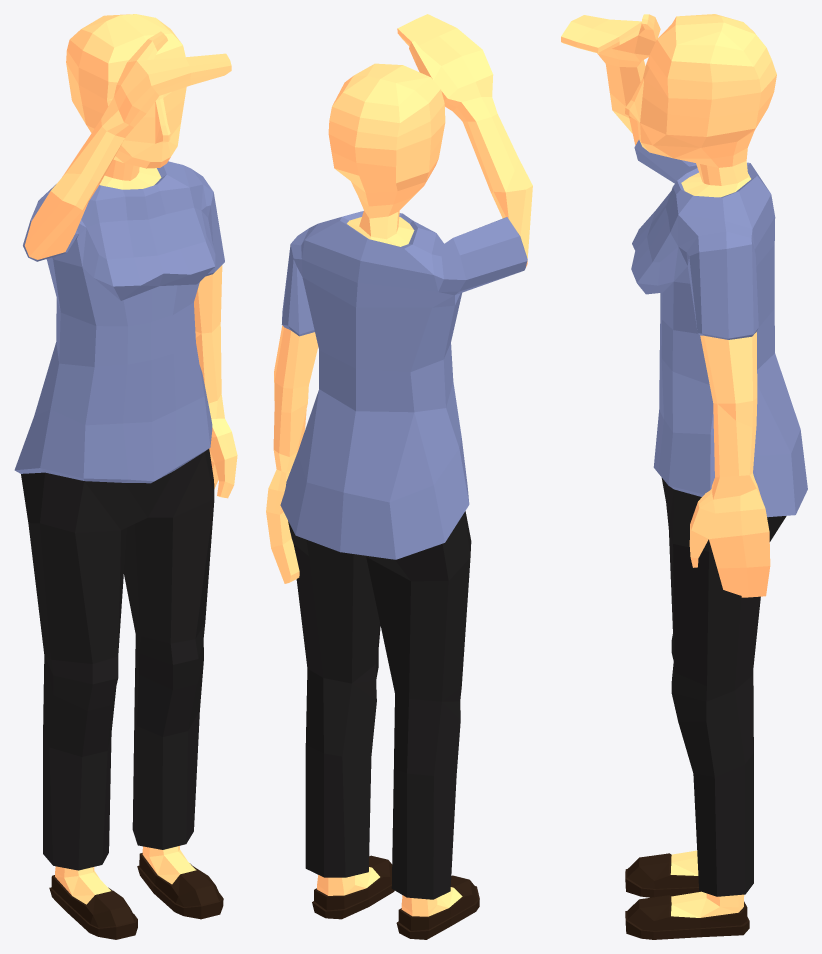
Rendered from female_standing_covering_eyes.glb.
3 views of the same model, side by side, from view 1: azimuth 30°, elevation 25°; view 2: azimuth 150°, elevation 25°; view 3: azimuth 270°, elevation 25° (orthographic). The views are drawn at different scales.
Parts seen in each view (by area): view 1: Female_Standing_CoveringEyes; view 2: Female_Standing_CoveringEyes; view 3: Female_Standing_CoveringEyes.
Boxes of the visible parts, <box> form: Female_Standing_CoveringEyes: <box>14,14,237,939</box>; Female_Standing_CoveringEyes: <box>266,14,532,939</box>; Female_Standing_CoveringEyes: <box>561,14,807,939</box>.
Bounding box in the file's own units: 0.5013 × 1.85 × 0.462.
